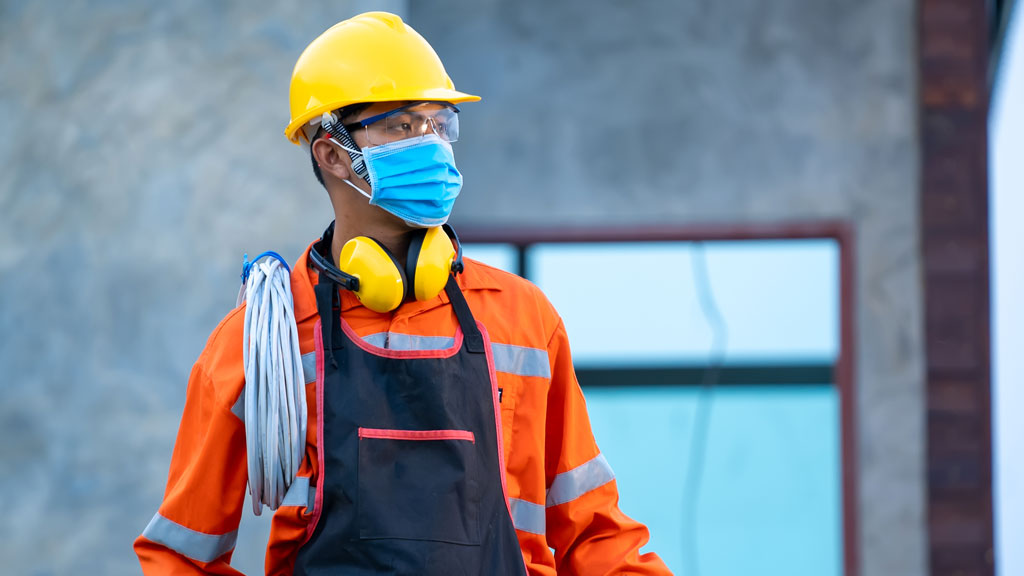Helmet: (281, 6, 490, 144)
Mask: (350, 127, 481, 228)
Safety_Jacket: (130, 215, 677, 576)
